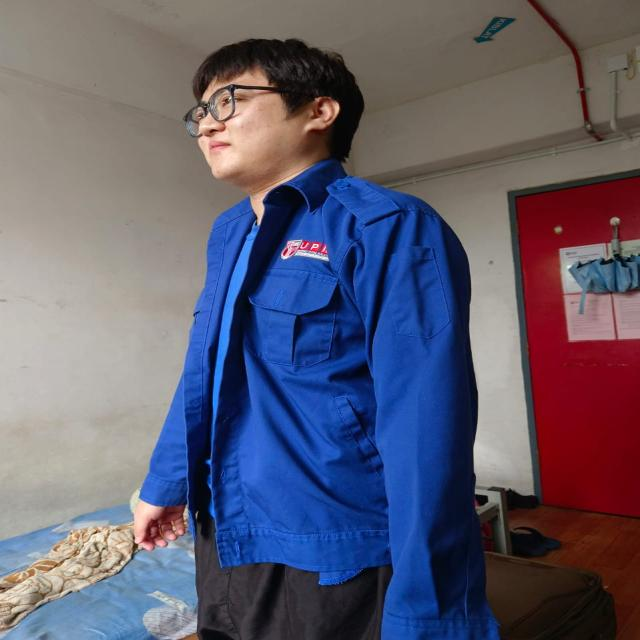person_with_labcoat: (135, 40, 499, 640)
